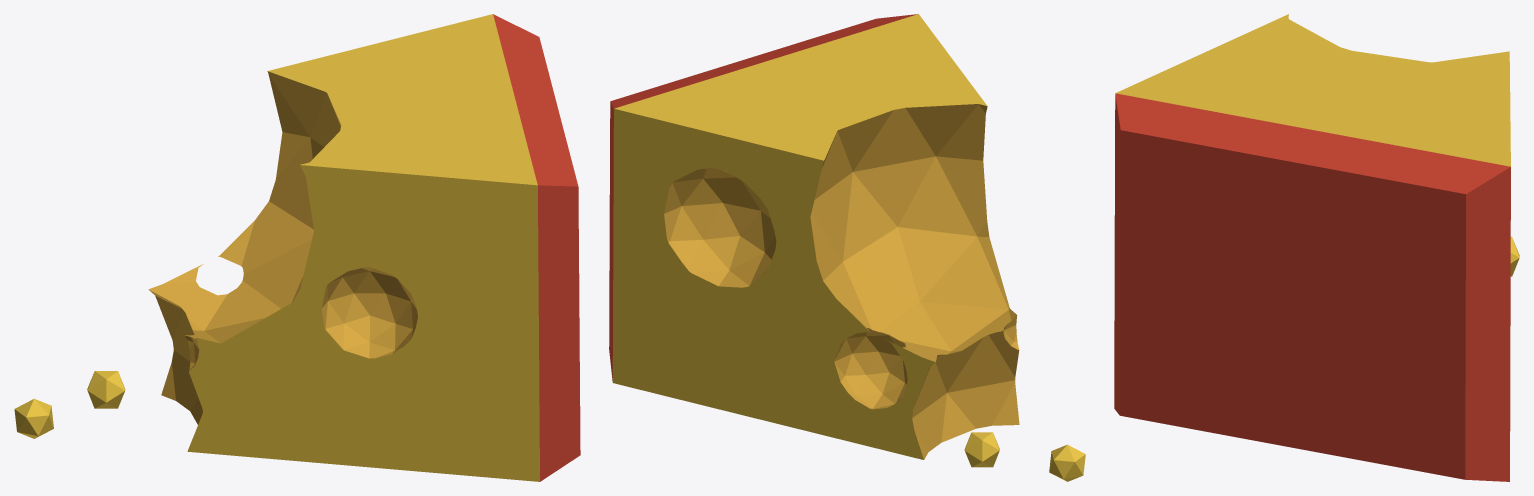
Rendered from Cheese (with 3 bites).fbx.
3 views of the same model, side by side, from view 1: azimuth 30°, elevation 25°; view 2: azimuth 150°, elevation 25°; view 3: azimuth 270°, elevation 25° (orthographic). The views are drawn at different scales.
Parts seen in each view (by area): view 1: Cheese with 2 bites, Cheese crumb, Cheese crumb.001; view 2: Cheese with 2 bites, Cheese crumb, Cheese crumb.001; view 3: Cheese with 2 bites.
Boxes of the visible parts, x1,y1,x2,y2 form: Cheese with 2 bites: (148,14,580,481); Cheese crumb: (14,398,53,438); Cheese crumb.001: (87,371,125,408); Cheese with 2 bites: (609,14,1019,459); Cheese crumb: (1049,444,1085,481); Cheese crumb.001: (964,432,999,467); Cheese with 2 bites: (1114,14,1510,481).
Size of the model in its own units: 365 by 201 by 234.
Materials: 2 (2 with a texture image).
